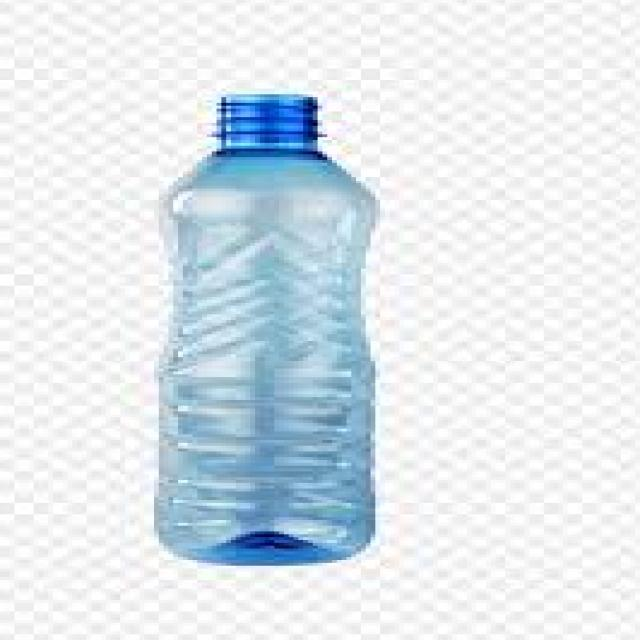organic: (121, 82, 424, 580)
